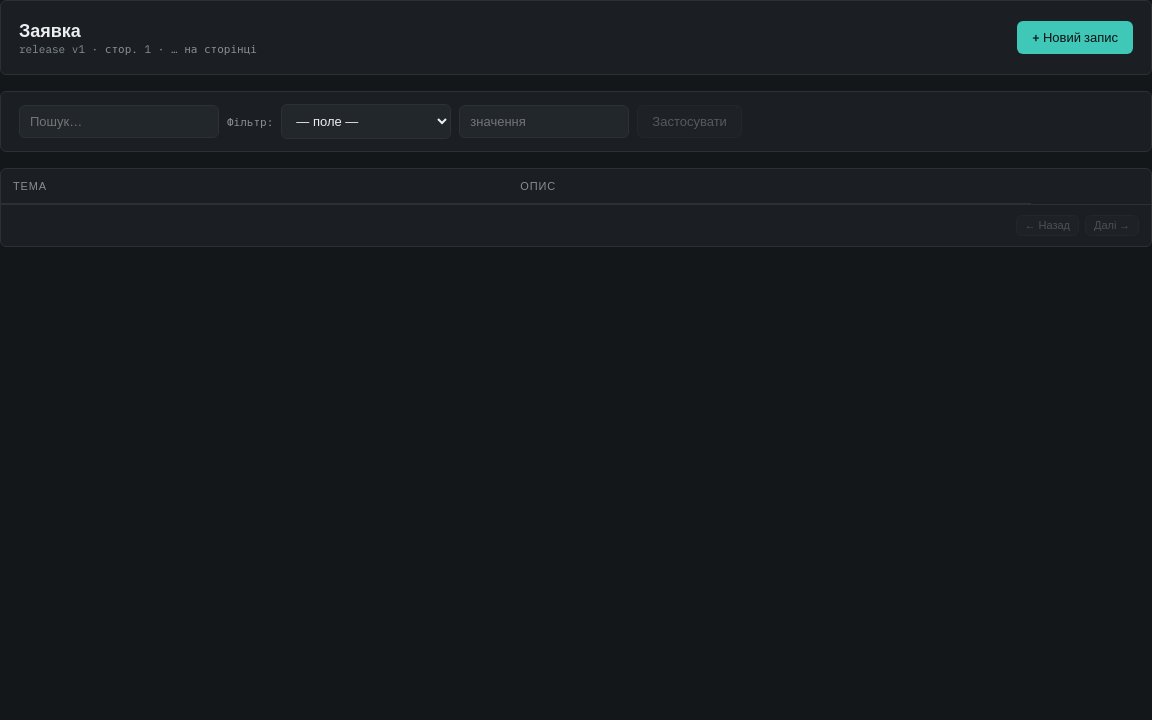
EntityWorkspace — створення запису › кнопка "+ Новий запис" відкриває форму навіть з порожнім draft
Step 1. Click the button "+ Новий запис" → (1075, 38), box left=1017, top=21, right=1133, bottom=54
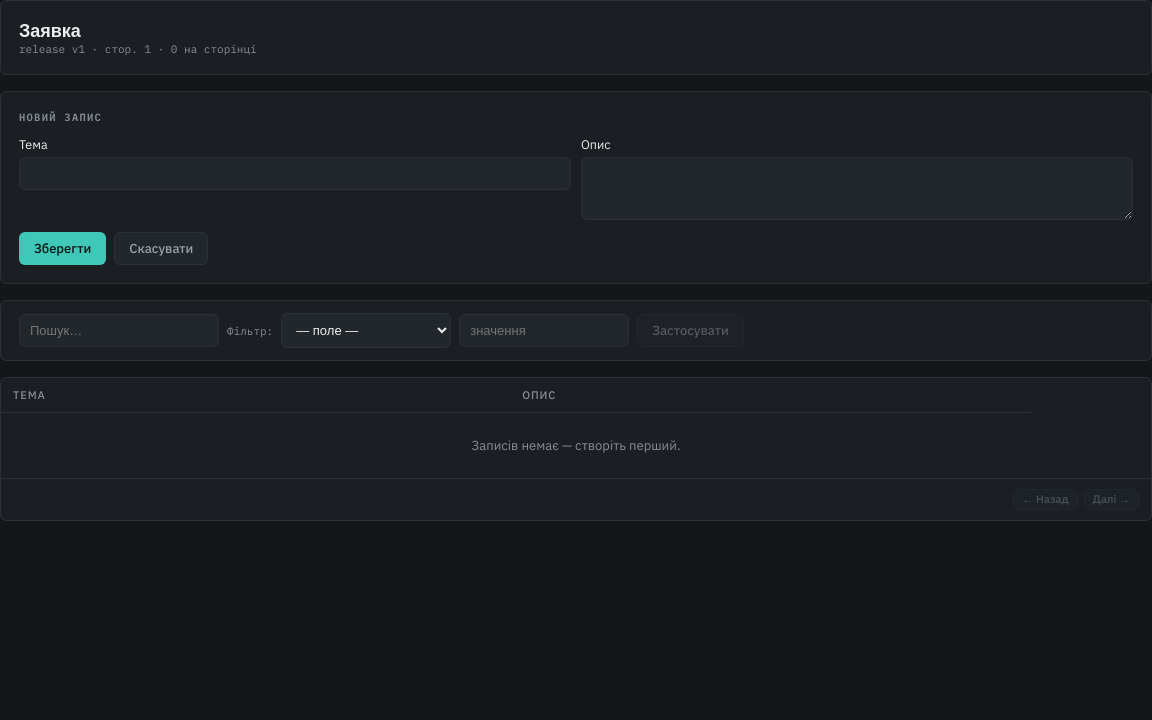
Check: the text "Новий запис" is shown, box left=19, top=110, right=102, bottom=124
Check: the button "Зберегти" is shown, box left=19, top=232, right=106, bottom=265
